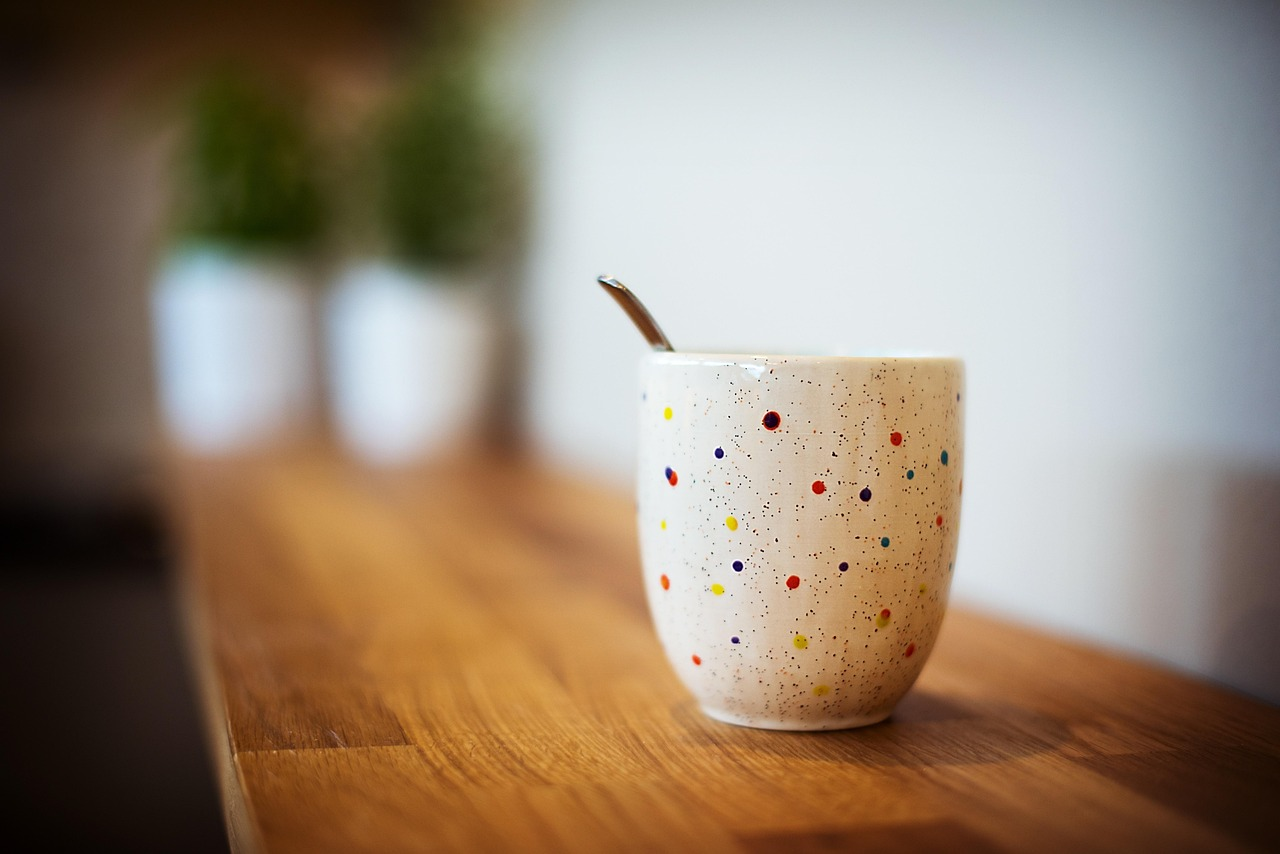mug: (616, 322, 998, 739)
